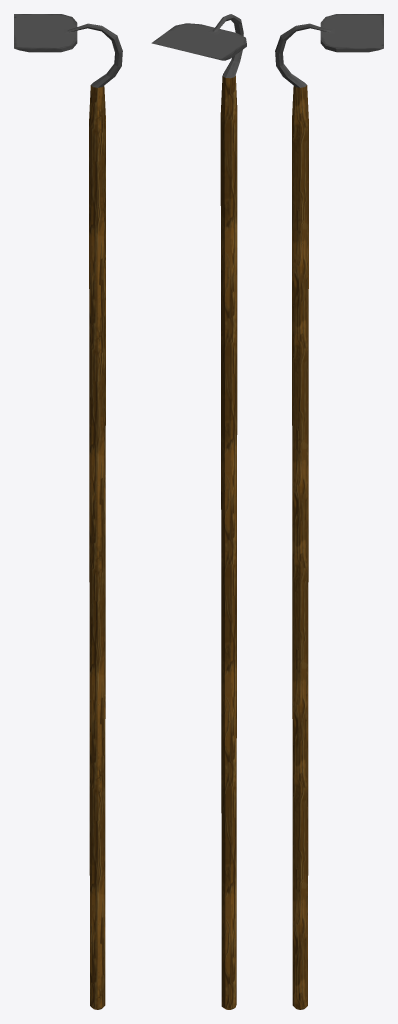
Rendered from Hoe.fbx.
3 renders of one model, left to right at view 1: azimuth 90°, elevation 25°; view 2: azimuth 150°, elevation 25°; view 3: azimuth 270°, elevation 25°, orthographic.
Visible parts, largest first — view 1: HoeTool_v01; view 2: HoeTool_v01; view 3: HoeTool_v01.
Boxes of the visible parts, box(x1,y1,x2,y2) form: HoeTool_v01: box(14, 14, 122, 1009); HoeTool_v01: box(151, 14, 246, 1009); HoeTool_v01: box(275, 14, 383, 1009).
Size of the model in its own units: 6.76 by 8.99 by 89.75.
